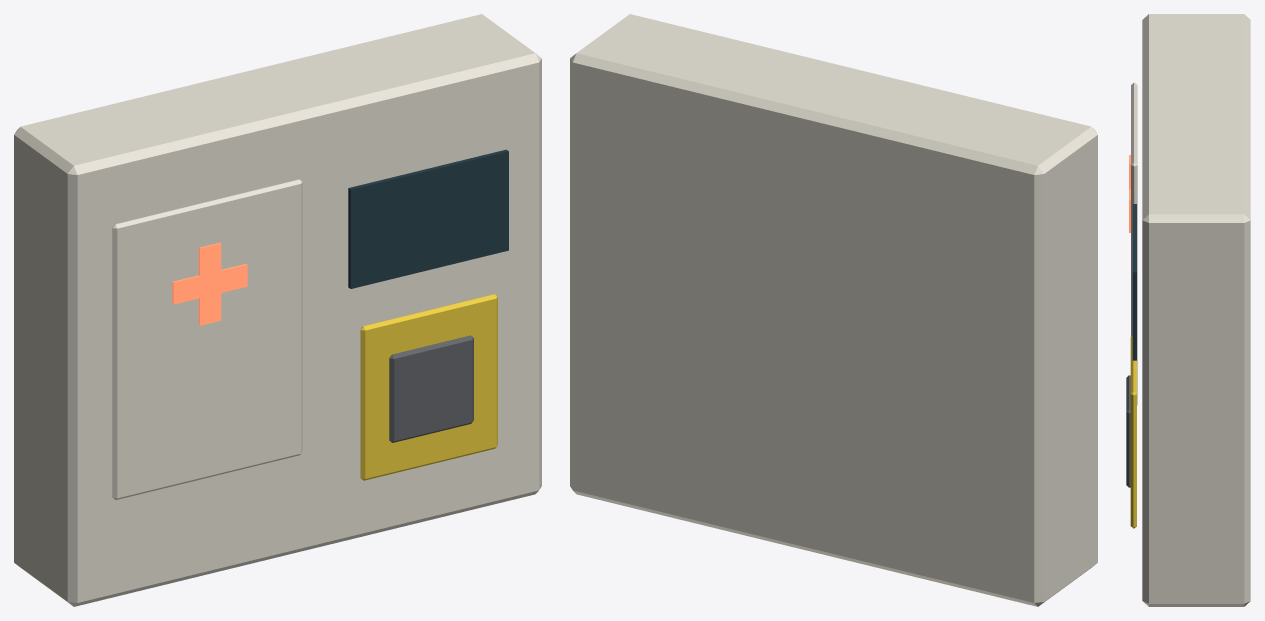
The model's file is med_station.glb.
3 renders of one model, left to right at view 1: azimuth 30°, elevation 25°; view 2: azimuth 150°, elevation 25°; view 3: azimuth 270°, elevation 25°, orthographic. The views are drawn at different scales.
Visible parts, largest first — view 1: med_station; view 2: med_station; view 3: med_station.
Part boxes in pixels (bbox=[...]): med_station: bbox=[14, 14, 541, 606]; med_station: bbox=[570, 14, 1097, 606]; med_station: bbox=[1126, 14, 1250, 606].
Bounding box in the file's own units: 0.9 × 0.8 × 0.23.
